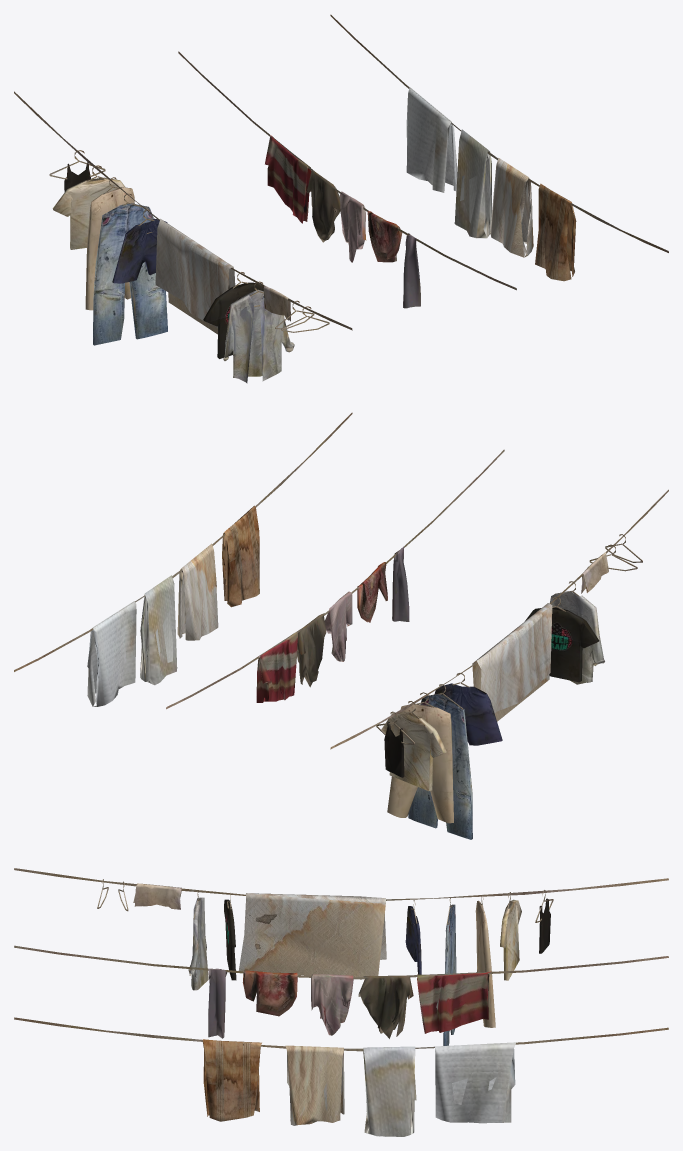
File: day-phoi.glb
The picture shows the model from 3 angles, top to bottom: view 1: azimuth 30°, elevation 25°; view 2: azimuth 150°, elevation 25°; view 3: azimuth 270°, elevation 25°; orthographic projection. The views are drawn at different scales.
Bounding box in the file's own units: 0.6284 × 0.2879 × 1.
5 materials, 5 textured.
